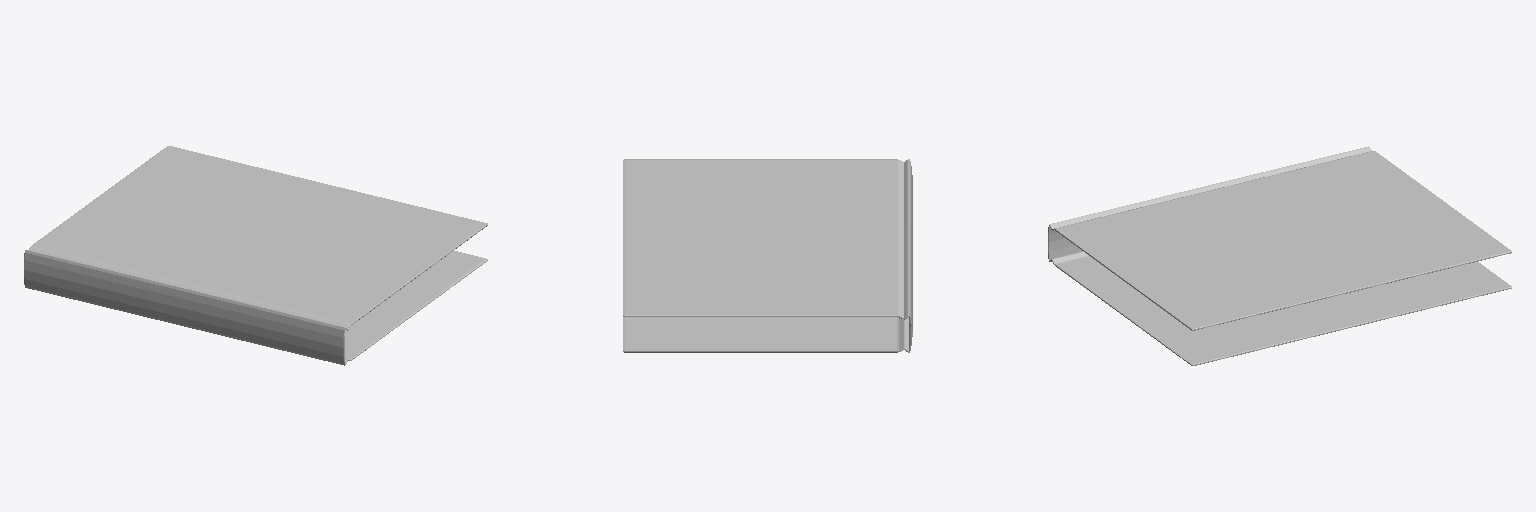
Rendered from book-five-cover.obj.
3 renders of one model, left to right at view 1: azimuth 30°, elevation 25°; view 2: azimuth 150°, elevation 25°; view 3: azimuth 270°, elevation 25°, orthographic.
Parts seen in each view (by area): view 1: books_and_mugs:Line005; view 2: books_and_mugs:Line005; view 3: books_and_mugs:Line005.
Part boxes in pixels (left/top/right/bottom): books_and_mugs:Line005: left=24, top=146, right=487, bottom=365; books_and_mugs:Line005: left=623, top=159, right=912, bottom=352; books_and_mugs:Line005: left=1048, top=146, right=1511, bottom=365.
Size of the model in its own units: 1.04 by 0.0997 by 1.11.